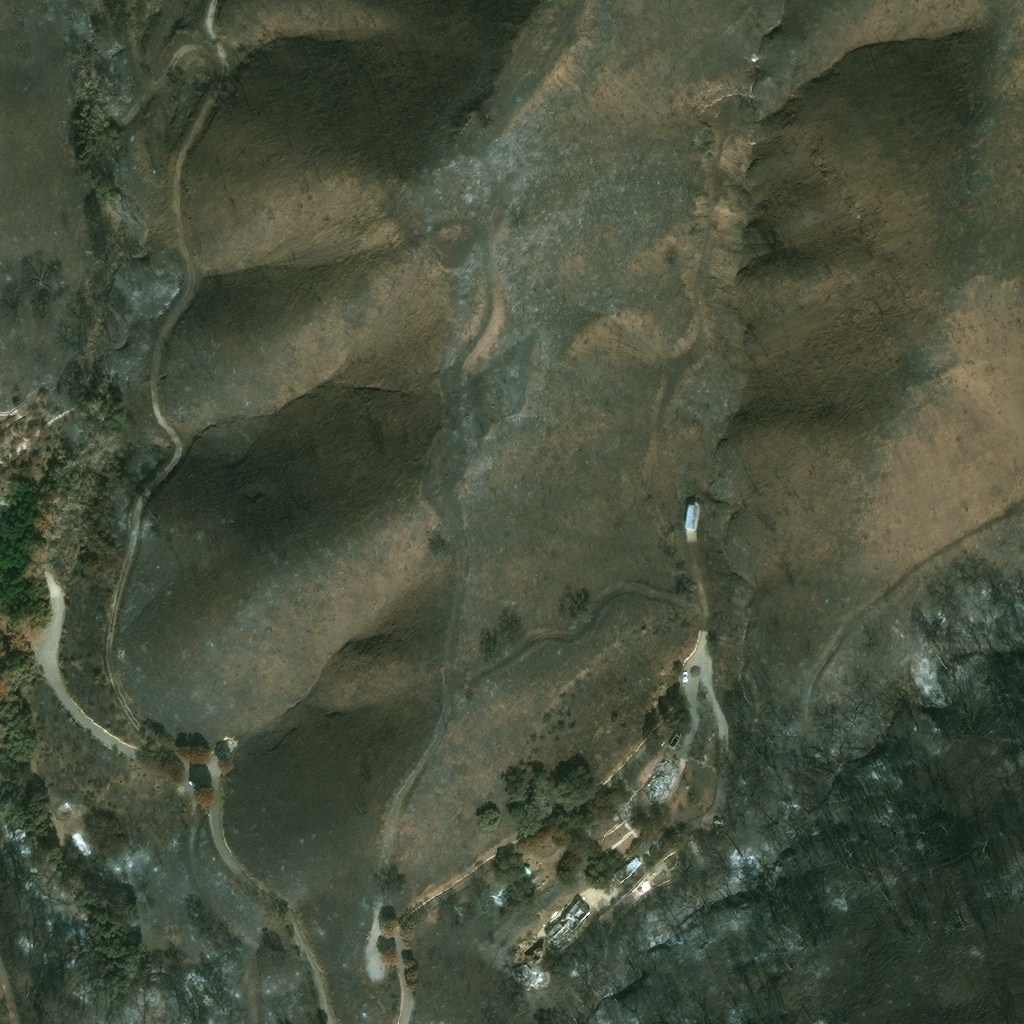1 minor-damage: (686, 503, 698, 538)
2 major-damage: (546, 897, 590, 946), (622, 855, 641, 876)
3 destroyed: (641, 756, 675, 797), (510, 963, 548, 989), (613, 800, 631, 818)
